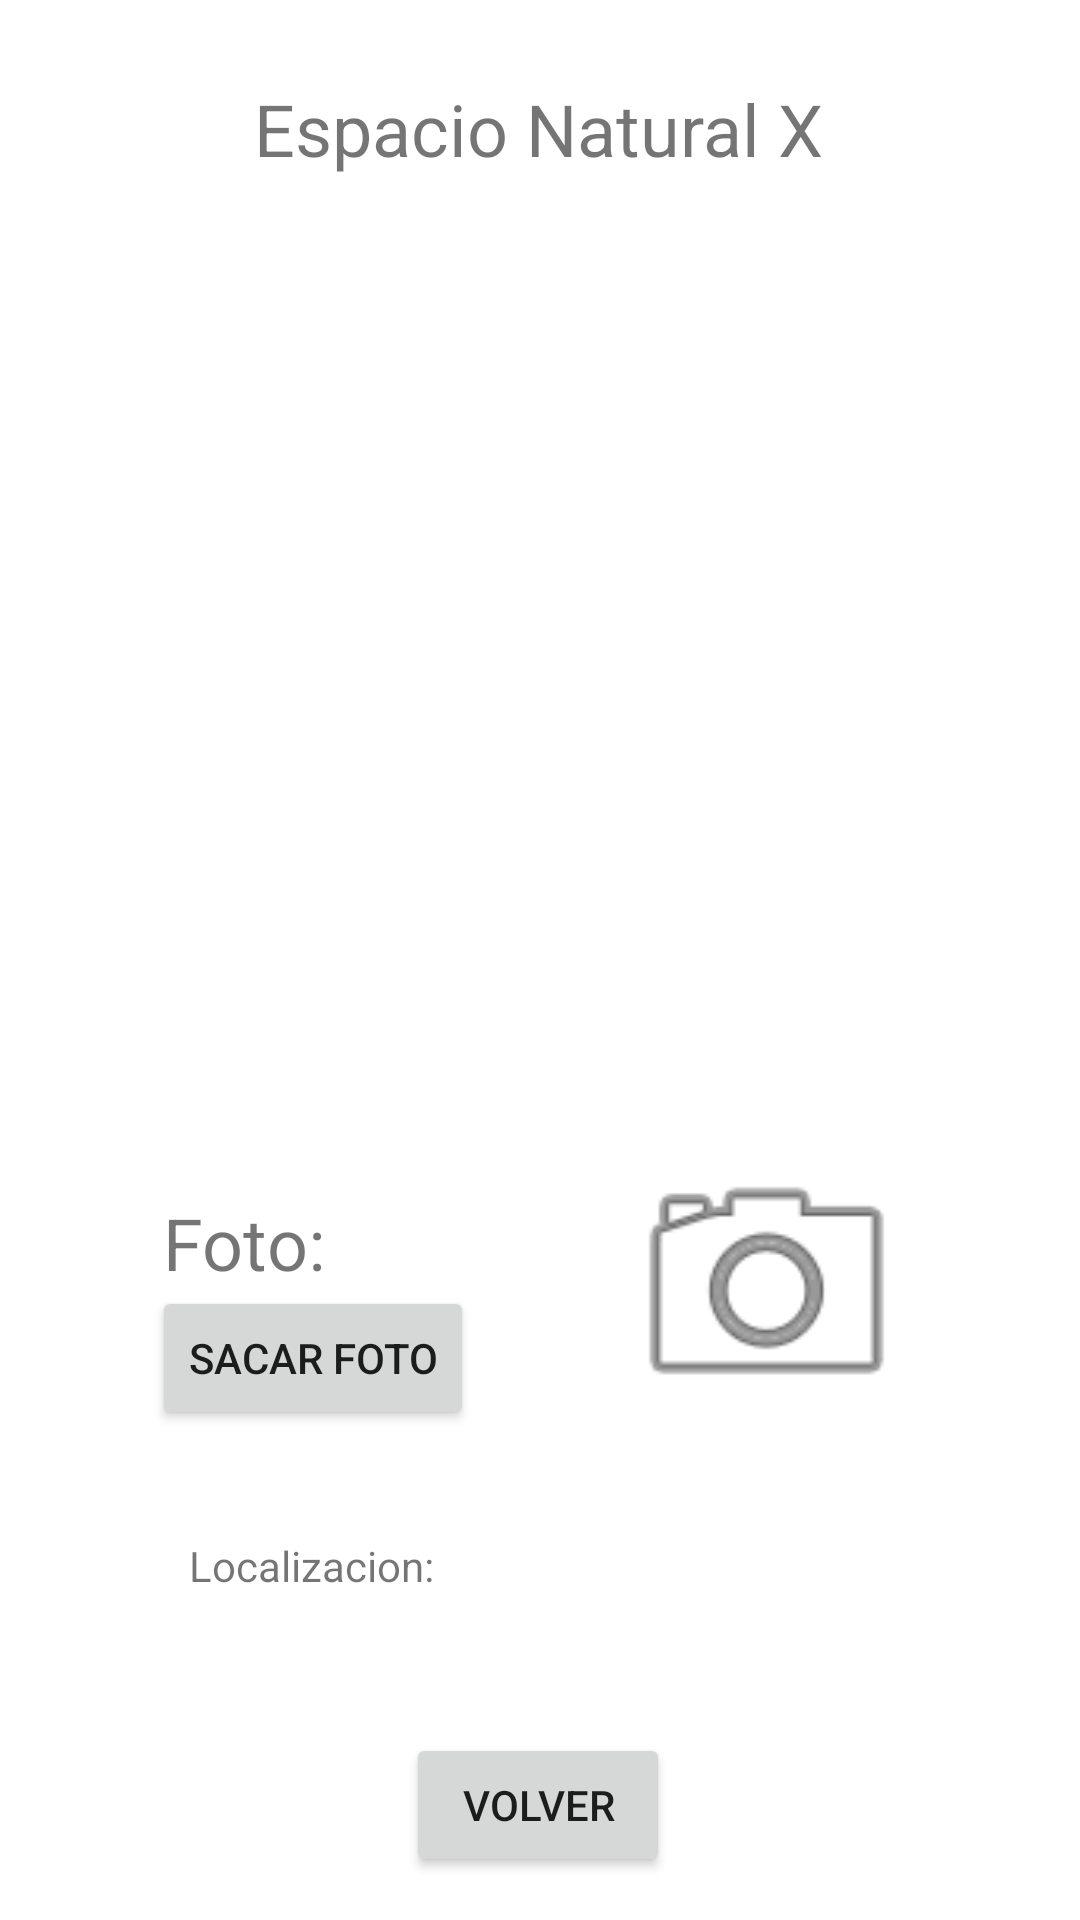

Named icons in this screenshot (1080×1920) and their centers, [x,y]:
camera: [766,1280]
